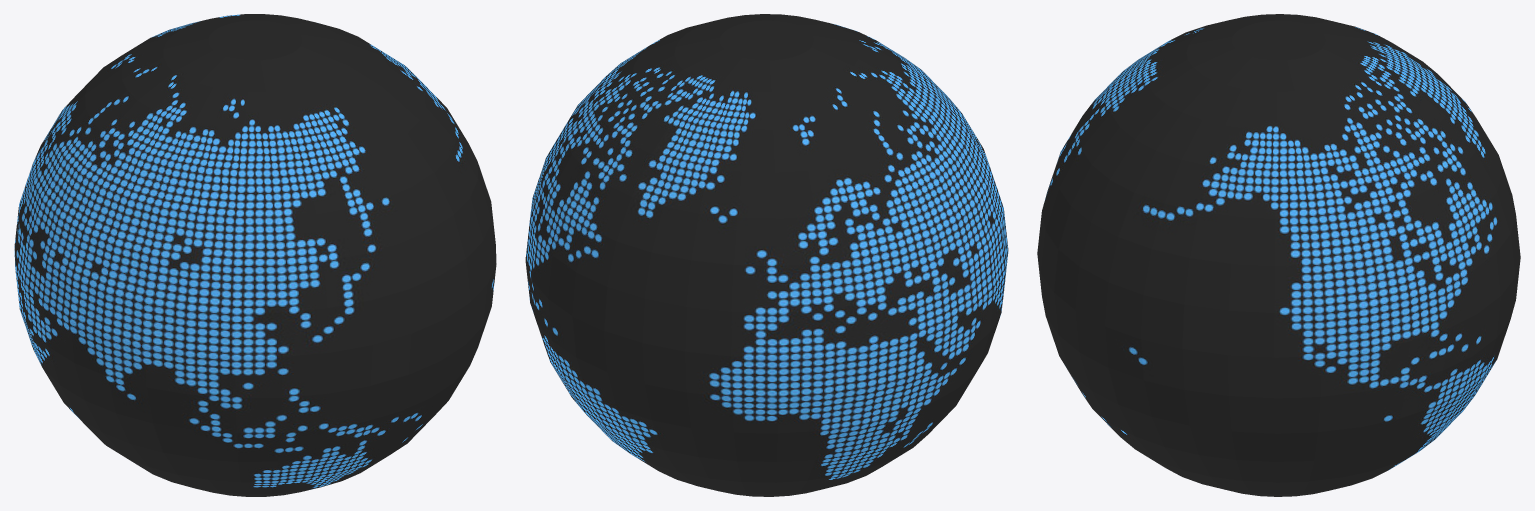
Rendered from planet.glb.
The picture shows the model from 3 angles, left to right: view 1: azimuth 30°, elevation 25°; view 2: azimuth 150°, elevation 25°; view 3: azimuth 270°, elevation 25°; orthographic projection.
Visible parts, largest first — view 1: Sphere; view 2: Sphere; view 3: Sphere.
Part boxes in pixels (x1=…): Sphere: x1=14, y1=14, x2=496, y2=496; Sphere: x1=525, y1=14, x2=1008, y2=496; Sphere: x1=1037, y1=14, x2=1520, y2=496.
Bounding box in the file's own units: 2 × 1.99 × 2.
1 material, 1 textured.
